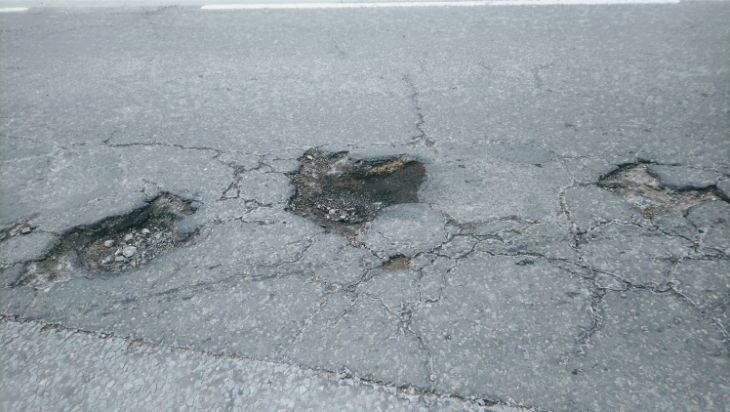pothole: (16, 188, 212, 292), (280, 137, 427, 238), (592, 155, 729, 222)
